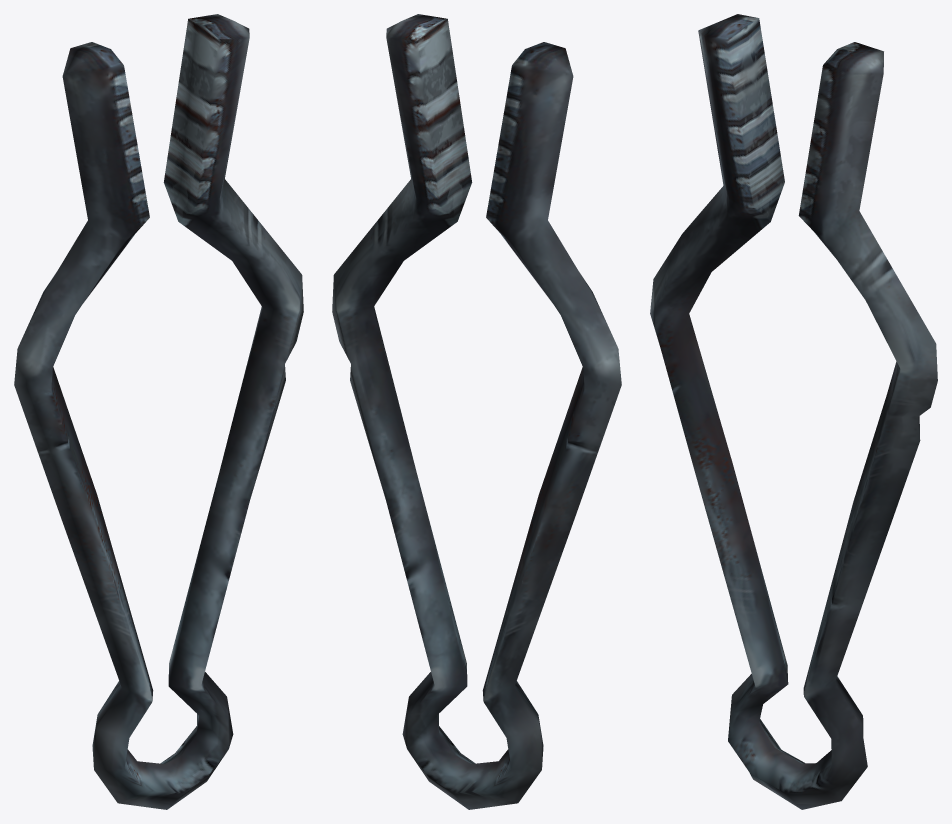
File: Tongs1.fbx
The picture shows the model from 3 angles, left to right: view 1: azimuth 30°, elevation 25°; view 2: azimuth 150°, elevation 25°; view 3: azimuth 330°, elevation 25°; orthographic projection.
Visible parts, largest first — view 1: mesh1; view 2: mesh1; view 3: mesh1.
Boxes of the visible parts, bbox=[...] form: mesh1: bbox=[14, 14, 303, 809]; mesh1: bbox=[332, 14, 621, 809]; mesh1: bbox=[650, 14, 937, 809].
Bounding box in the file's own units: 3.68 × 9.41 × 0.7035.
